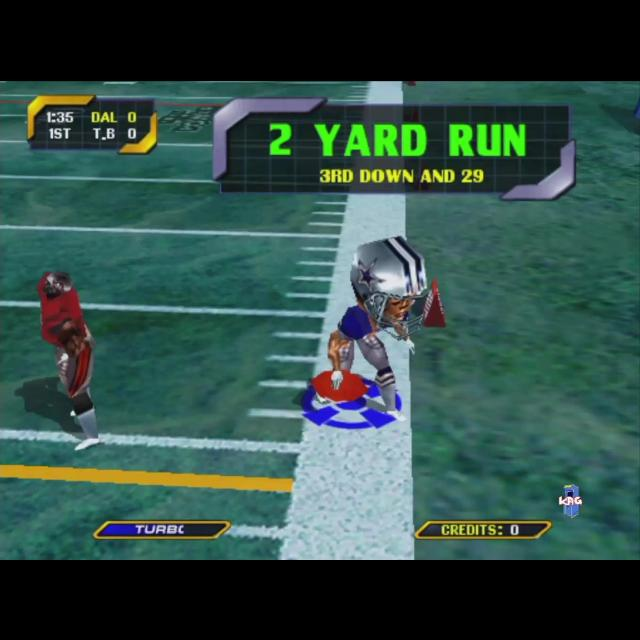player: (300, 234, 446, 428), (36, 270, 98, 450)
